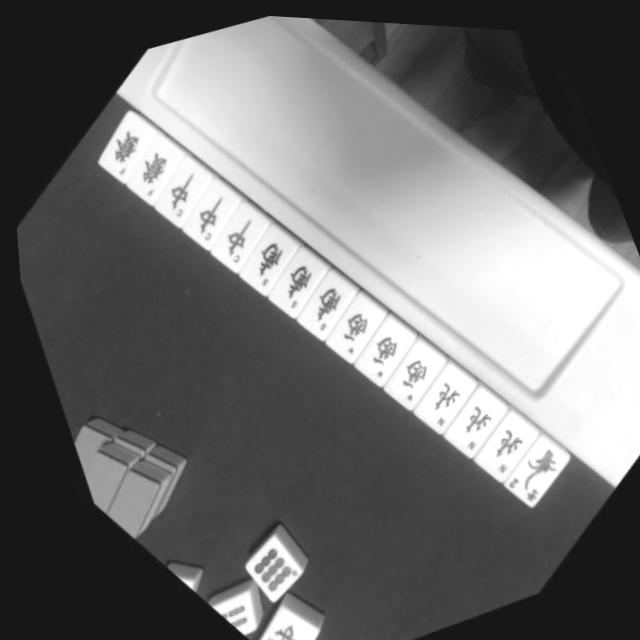bf2: (482, 432, 576, 520)
hdg: (75, 113, 159, 193), (109, 142, 180, 209)
hdr: (191, 203, 274, 281), (161, 180, 243, 258), (135, 159, 215, 234)
hwn: (453, 406, 545, 493), (423, 382, 514, 468), (392, 359, 483, 445)
hws: (218, 224, 303, 304), (247, 248, 332, 327), (277, 271, 360, 349)
hww: (332, 314, 420, 397), (364, 339, 450, 419), (306, 296, 388, 373)
